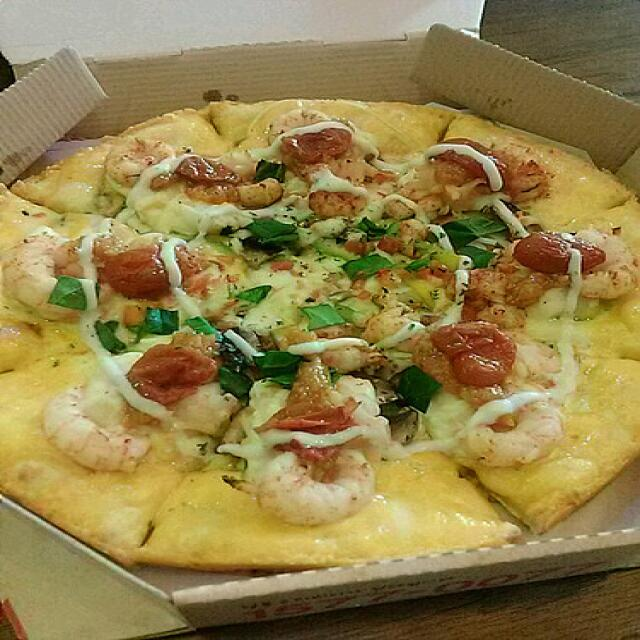Wet Waste: (0, 83, 640, 582)
